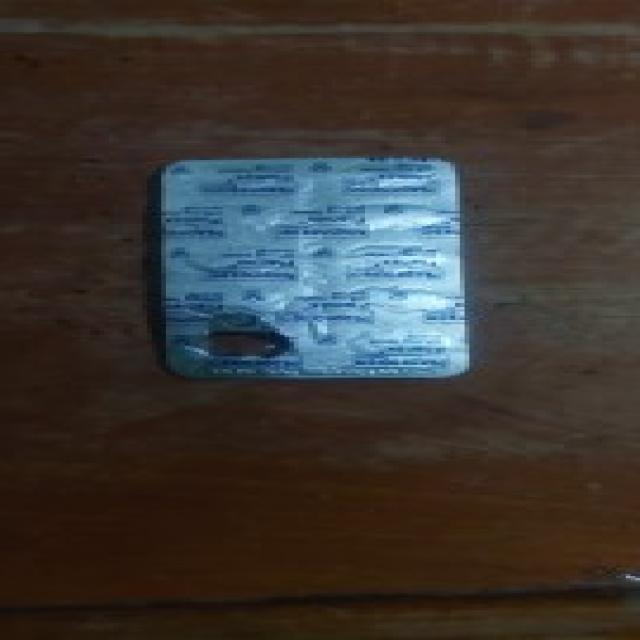Cacat: (154, 158, 469, 384)
Kemasan: (188, 318, 306, 368)
